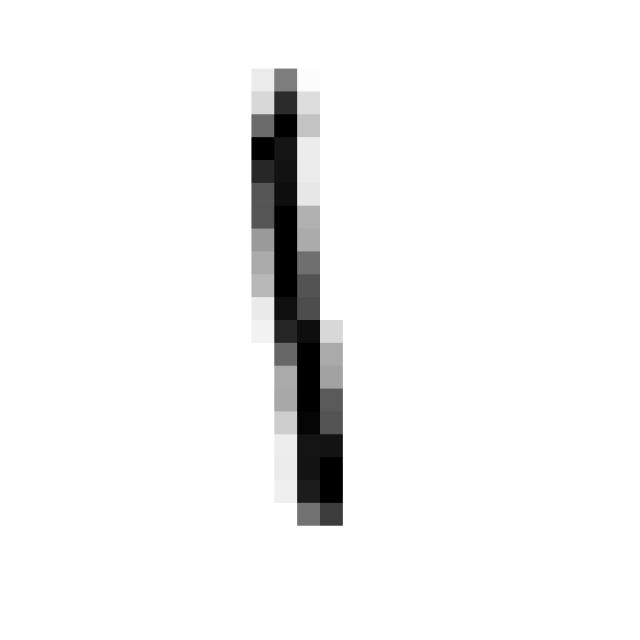1 -one-: (222, 48, 373, 540)
